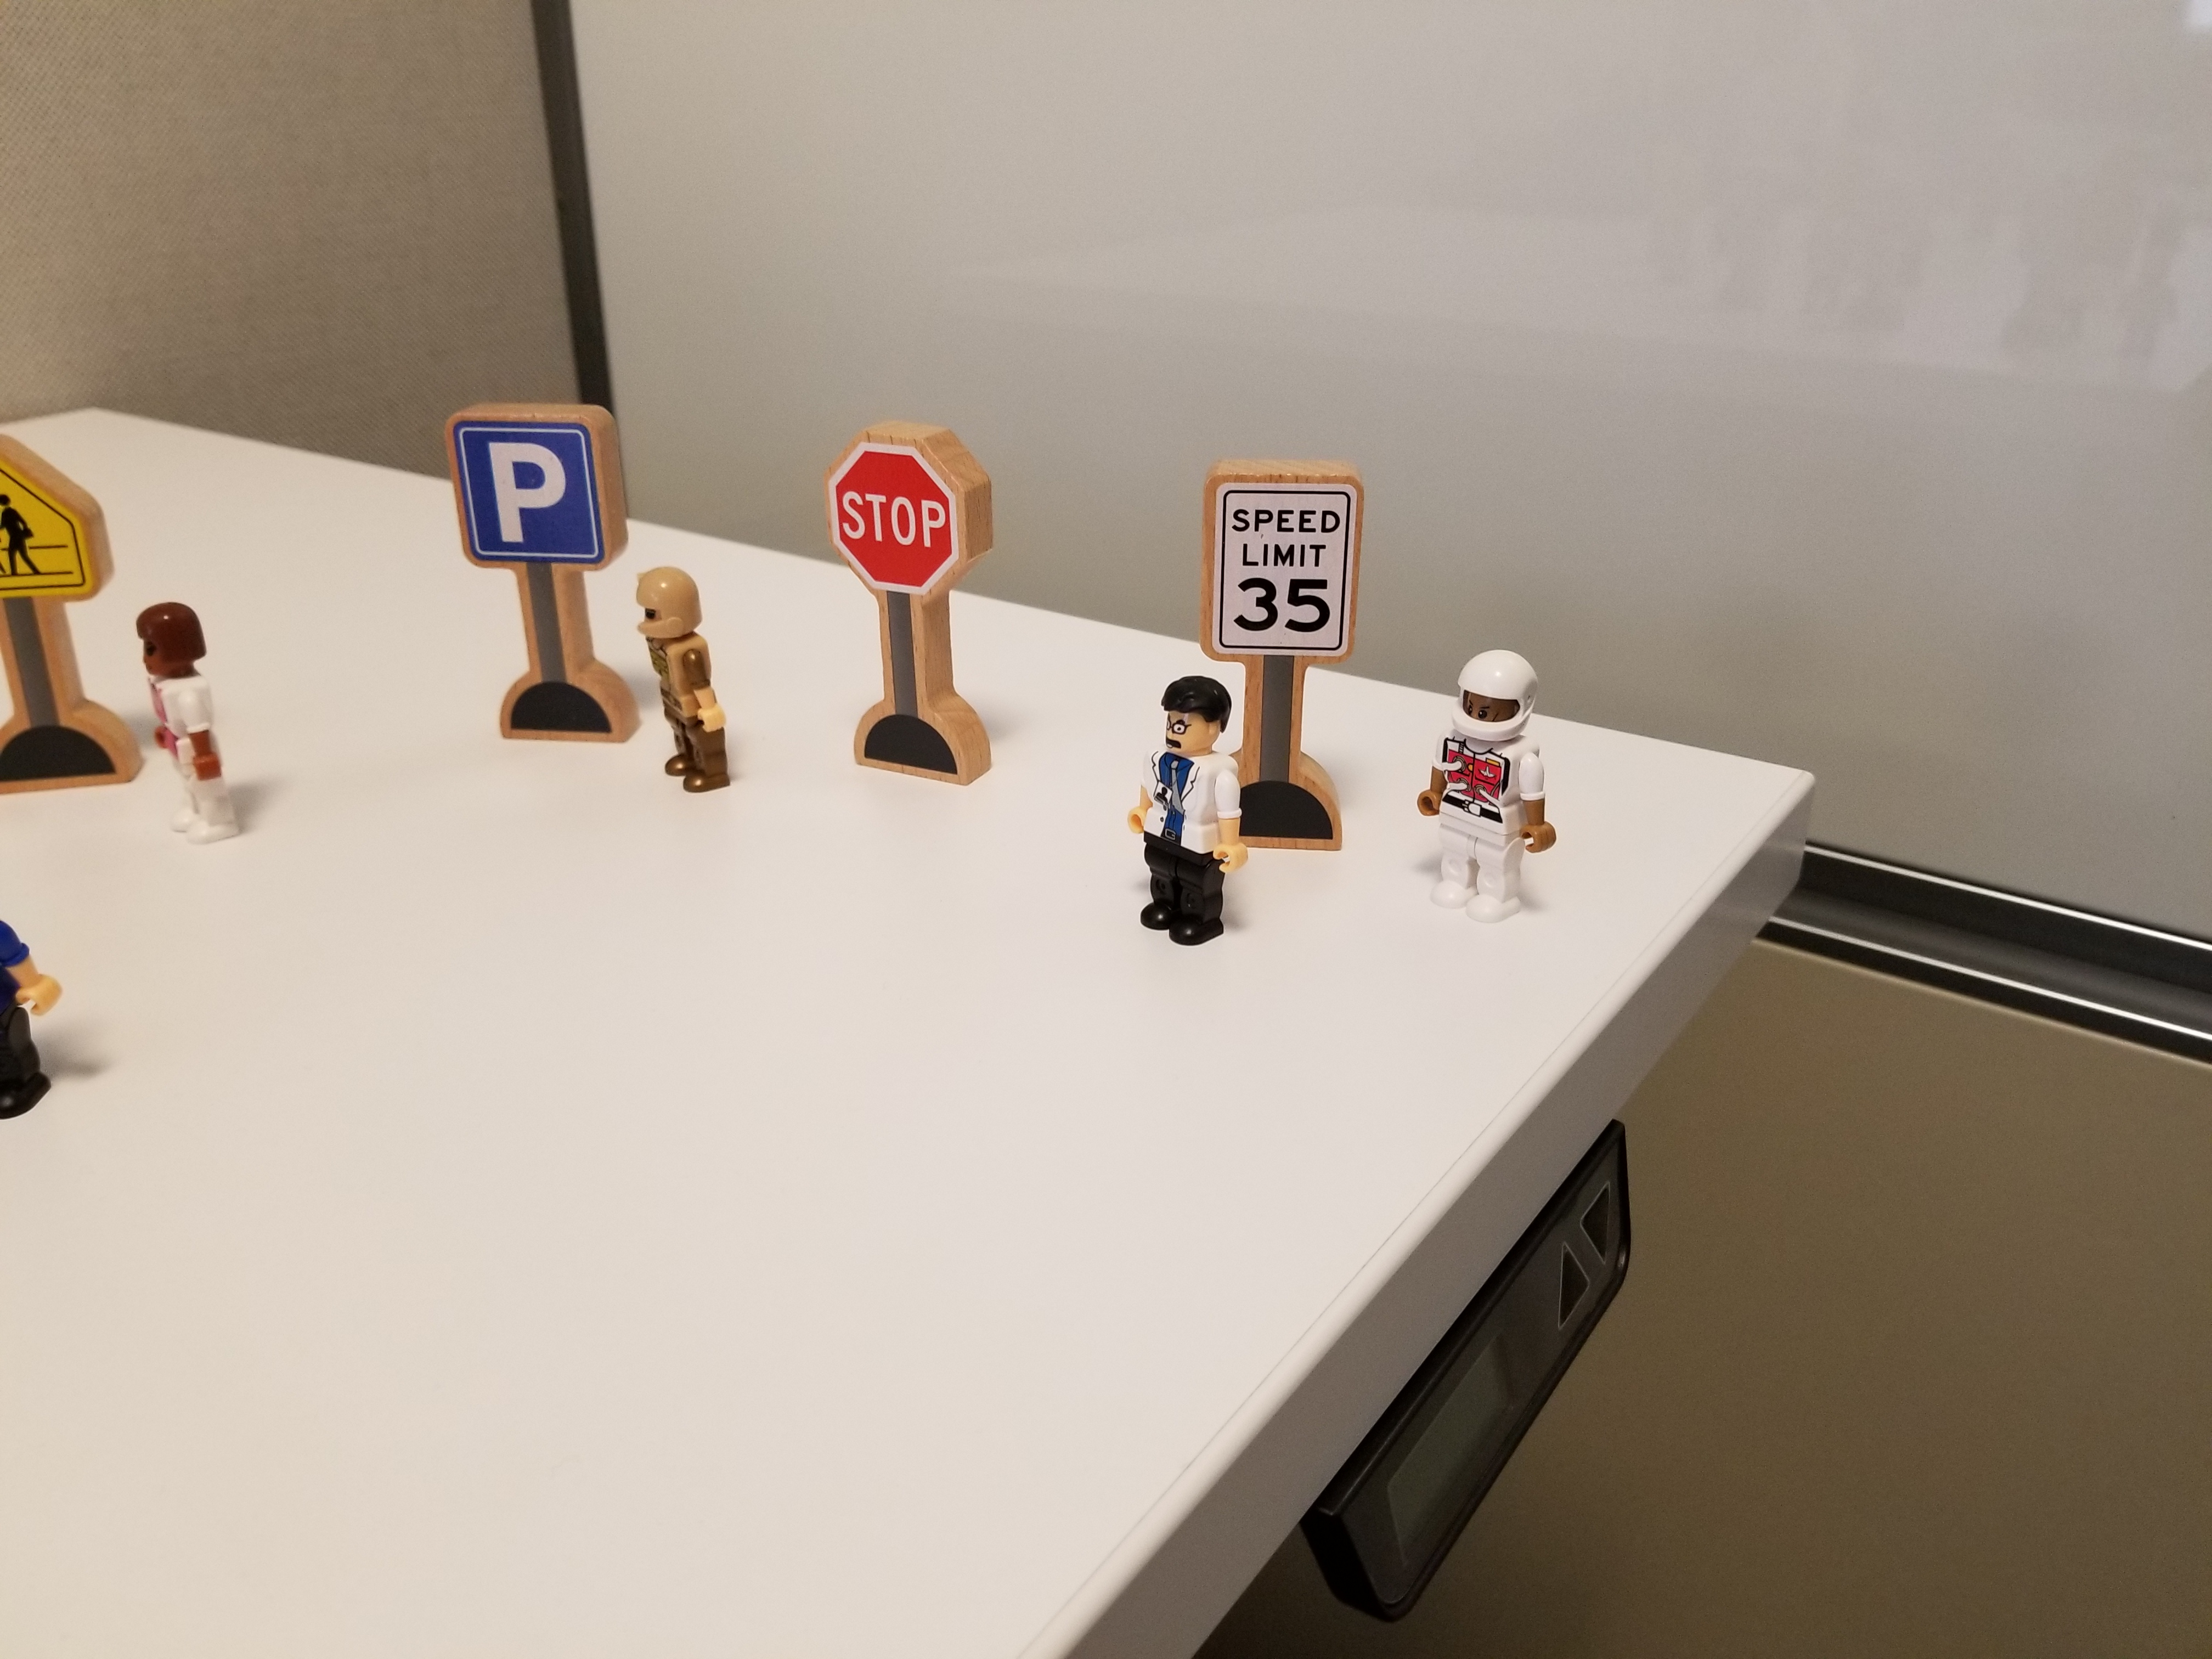Parking: (433, 392, 635, 752)
Speed limit 35: (1190, 433, 1368, 727)
Stop: (800, 400, 1048, 837)
person: (1111, 642, 1250, 982), (1423, 635, 1557, 969), (137, 585, 260, 923), (637, 563, 754, 817)
